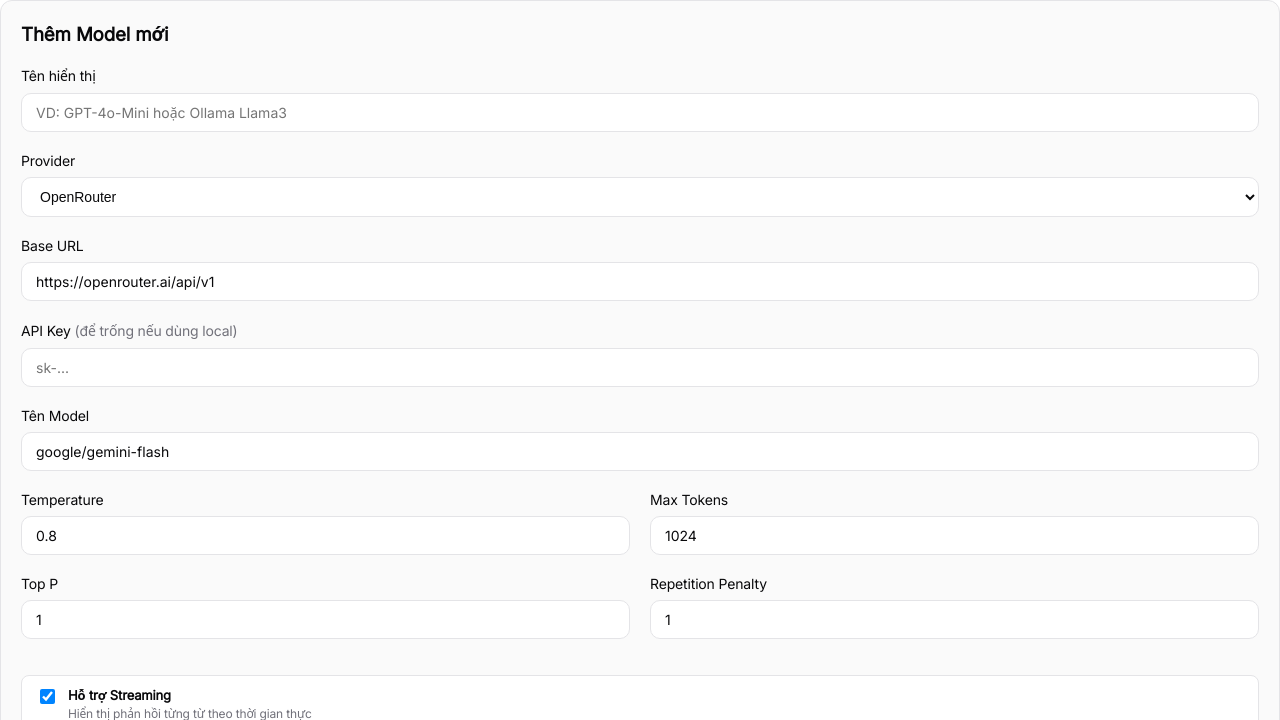
ModelForm › should update baseUrl and modelName when preset changes
Select "Ollama (Local)" in the dropdown labelled "Provider" at [640, 197], box x1=21 y1=177 x2=1259 y2=217
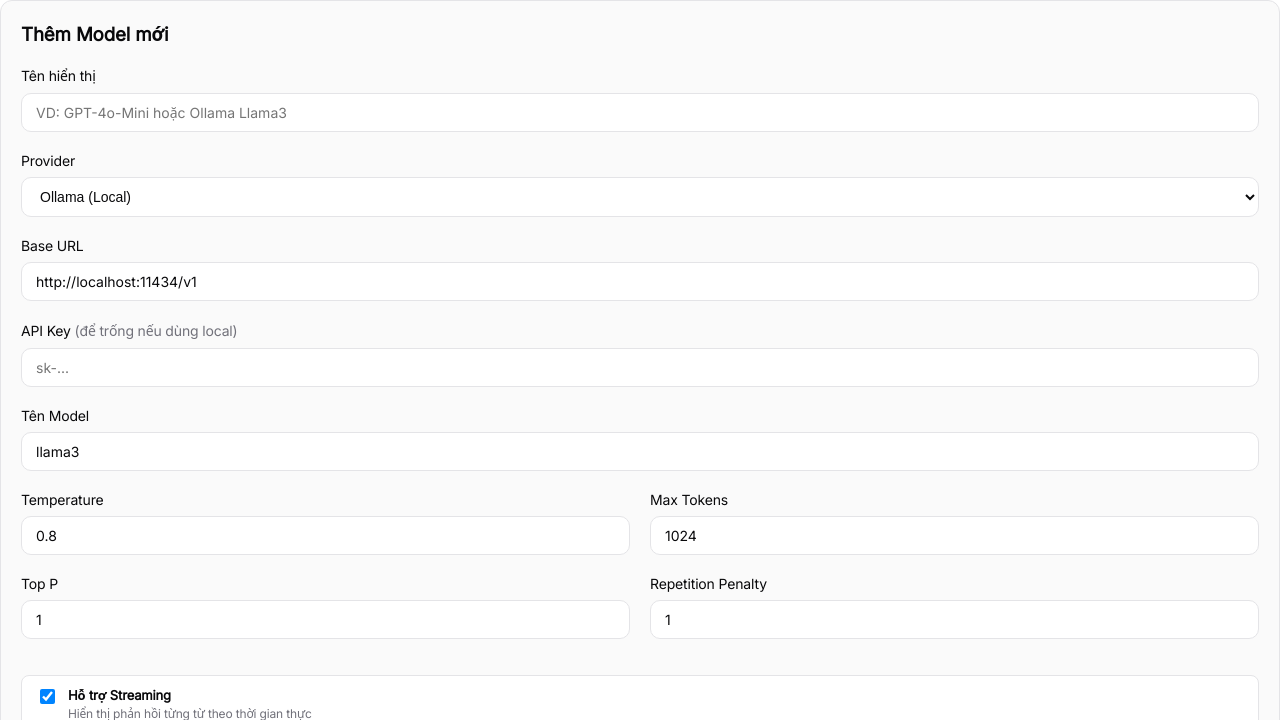
Expected: the field labelled "Base URL" holds "http://localhost:11434/v1", x1=21 y1=262 x2=1259 y2=301
Expected: the field labelled "Tên Model" holds "llama3", x1=21 y1=432 x2=1259 y2=471
